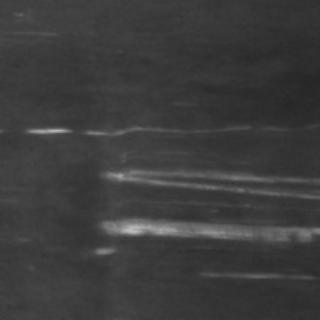scratches: (84, 210, 316, 254), (96, 162, 316, 202), (20, 119, 248, 139), (196, 264, 310, 280)
